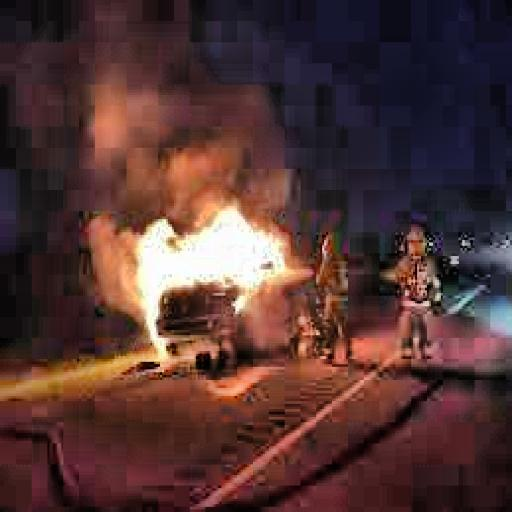fire: (91, 195, 308, 351)
